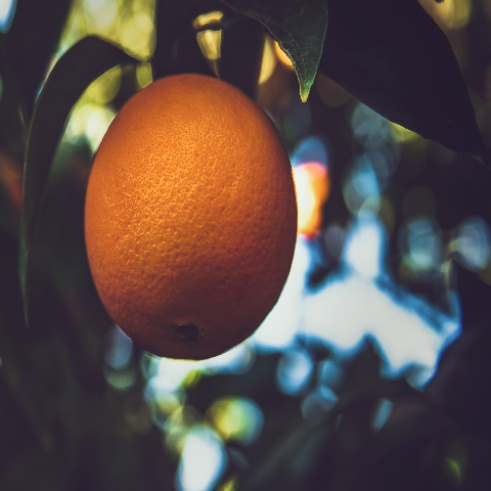orange: (62, 69, 341, 371)
